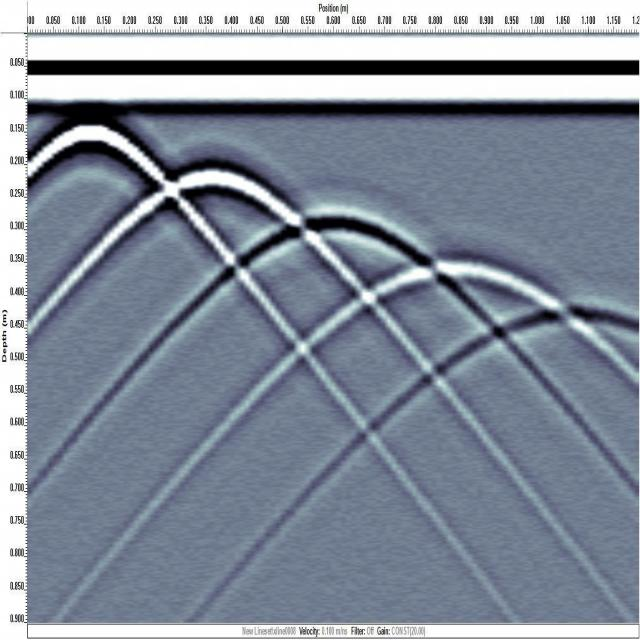hyperbola: (364, 241, 554, 320), (235, 197, 422, 274), (135, 156, 288, 232), (29, 113, 162, 193)
